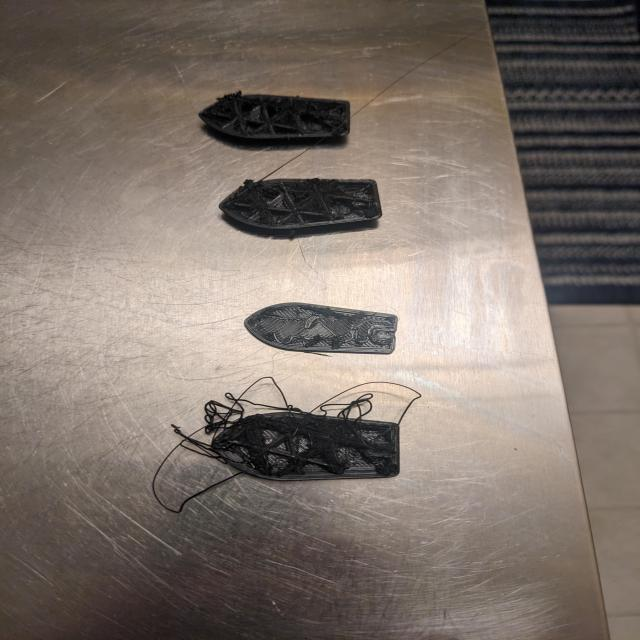Spaghetti: (146, 374, 423, 514)
